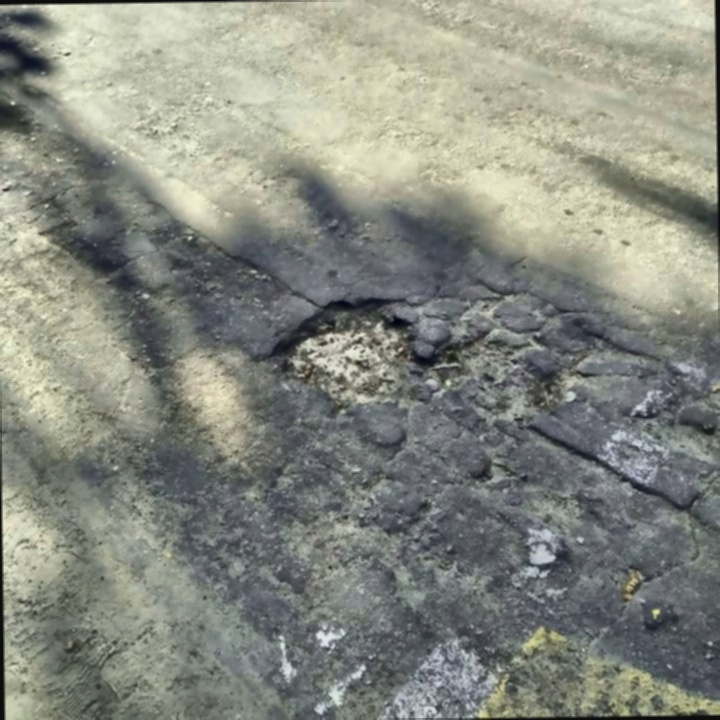pothole: (258, 290, 425, 409), (428, 333, 564, 420)
